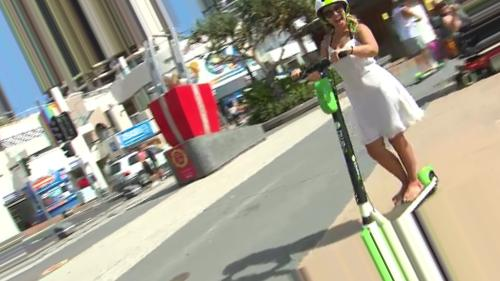scooter: (290, 49, 439, 231)
with helmet: (313, 1, 353, 30)
